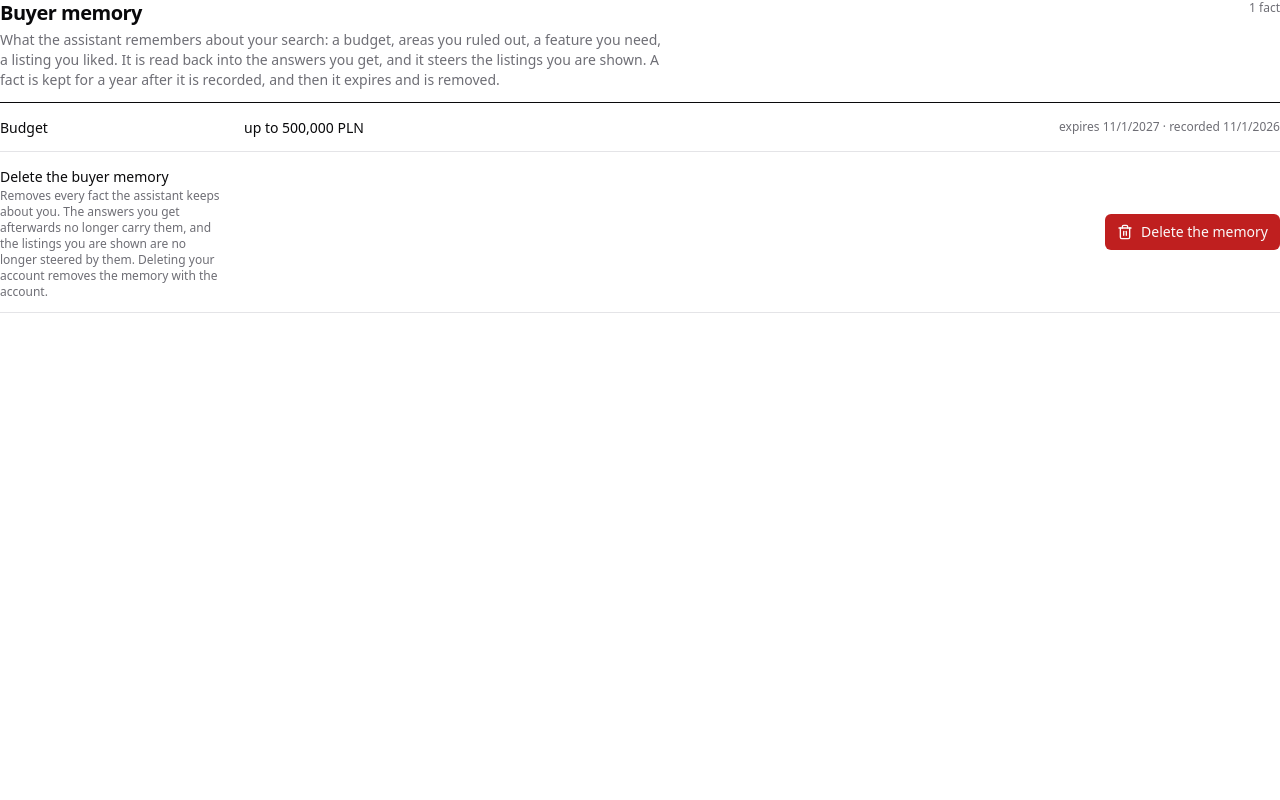
Test: BuyerMemorySettings › keeps the facts and says the erasure failed when the server refuses
Expected: the text "up to 500,000 PLN" is shown, [244,118,364,137]
Click the button "Delete the memory" at (1193,232), box [1105,214,1279,250]
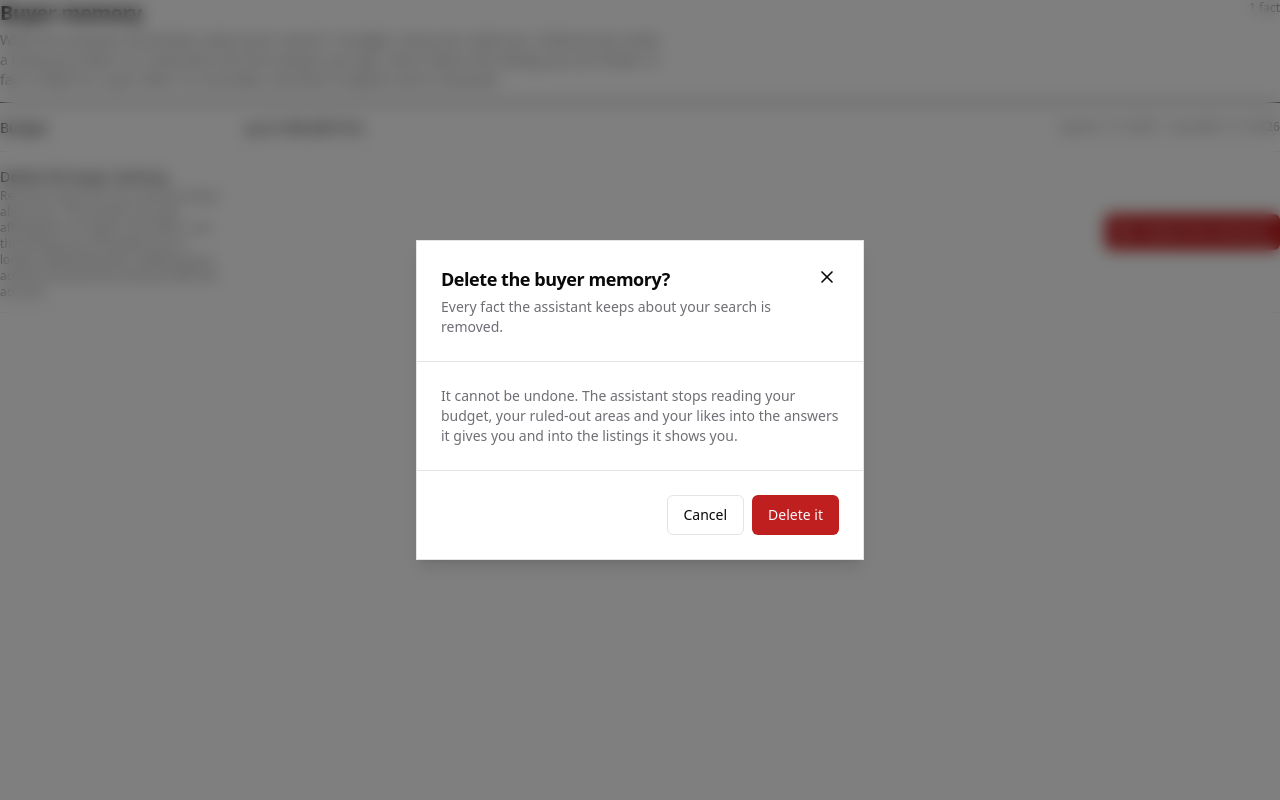
Click the button "Delete it" at (796,515), box [752,495,839,535]
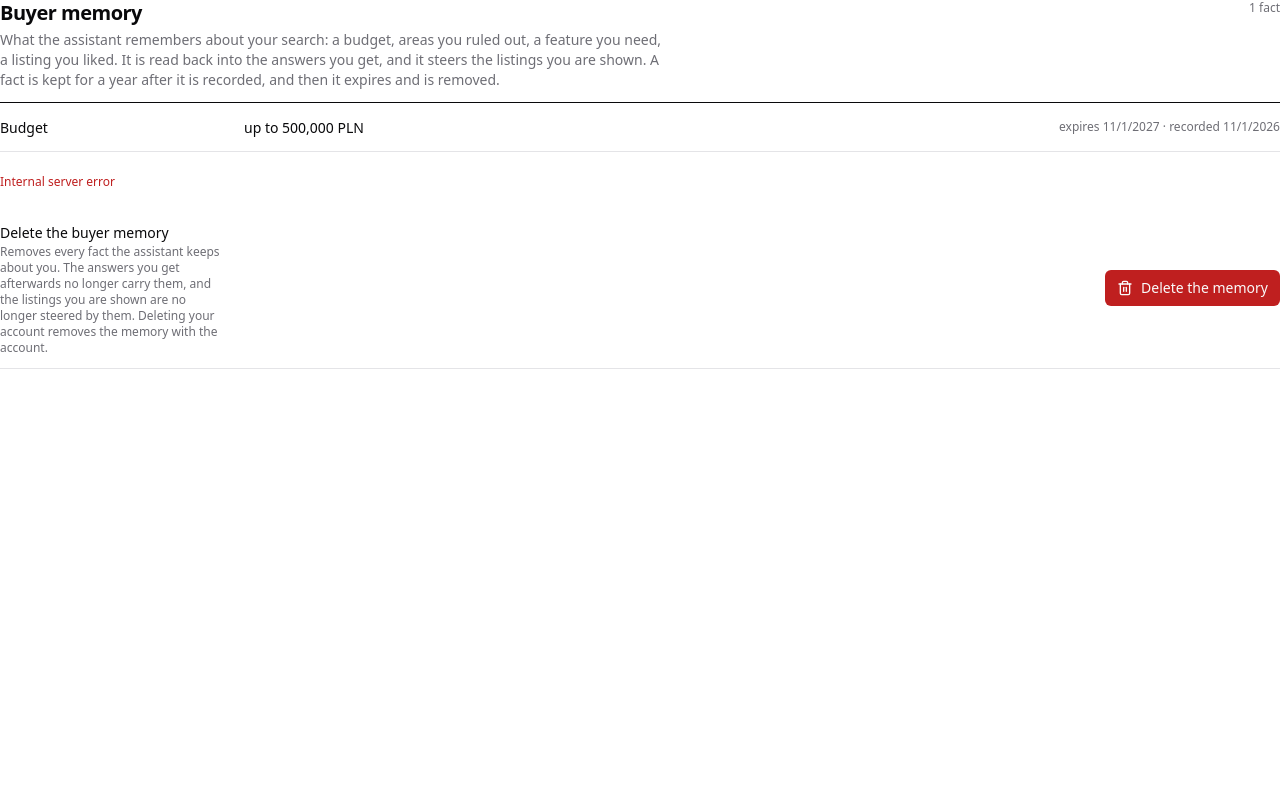
Expected: the text "up to 500,000 PLN" is shown, [244,118,364,137]
Expected: the text "Internal server error" is shown, [0,173,115,190]
